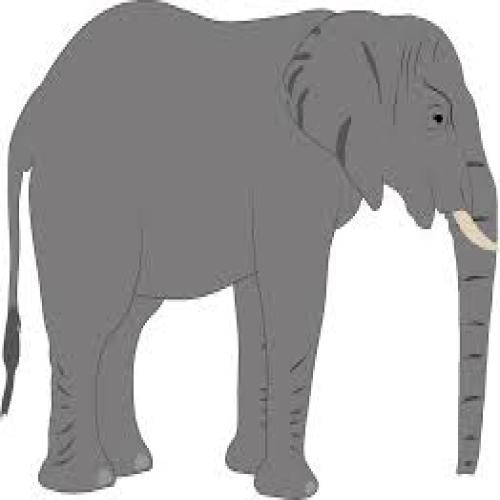asian_elephant-endangered: (9, 12, 494, 486)
